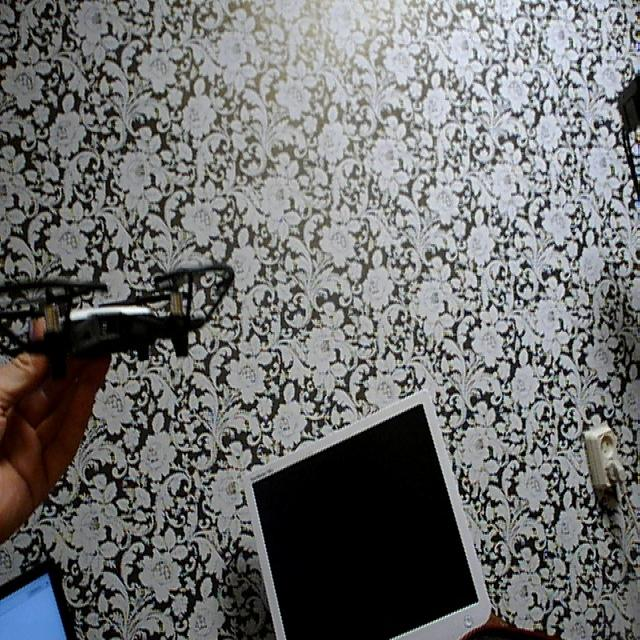drone: (0, 242, 240, 401)
